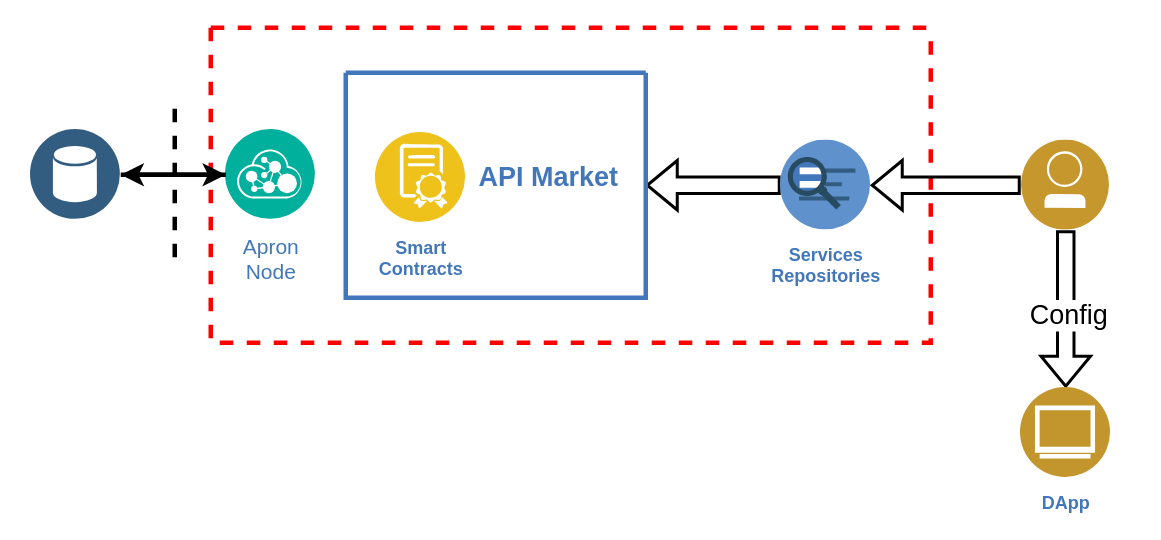
Some shapes in this 1161 by 540 pixel diagram are drawn without their labels. The shapes that lost their labels are listed below. From the top down, each one's centre as x and y in pixels, then its label:
the point at 75,174: Parachain Node
the point at 1065,185: Developers
